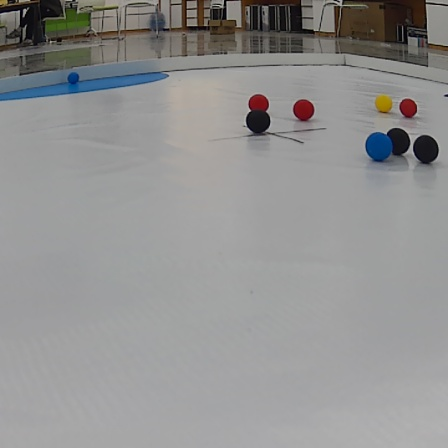black: (412, 132, 441, 161), (244, 111, 273, 135), (389, 127, 411, 157)
blue: (366, 129, 392, 165), (67, 74, 81, 84)
blue_base: (0, 72, 172, 101)
red: (289, 96, 318, 119), (247, 93, 275, 116), (396, 96, 420, 119)
yellow: (372, 92, 396, 116)
